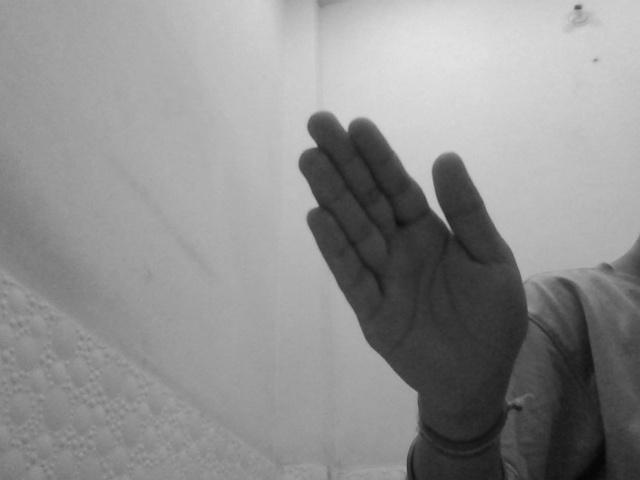Hello: (296, 109, 534, 408)
